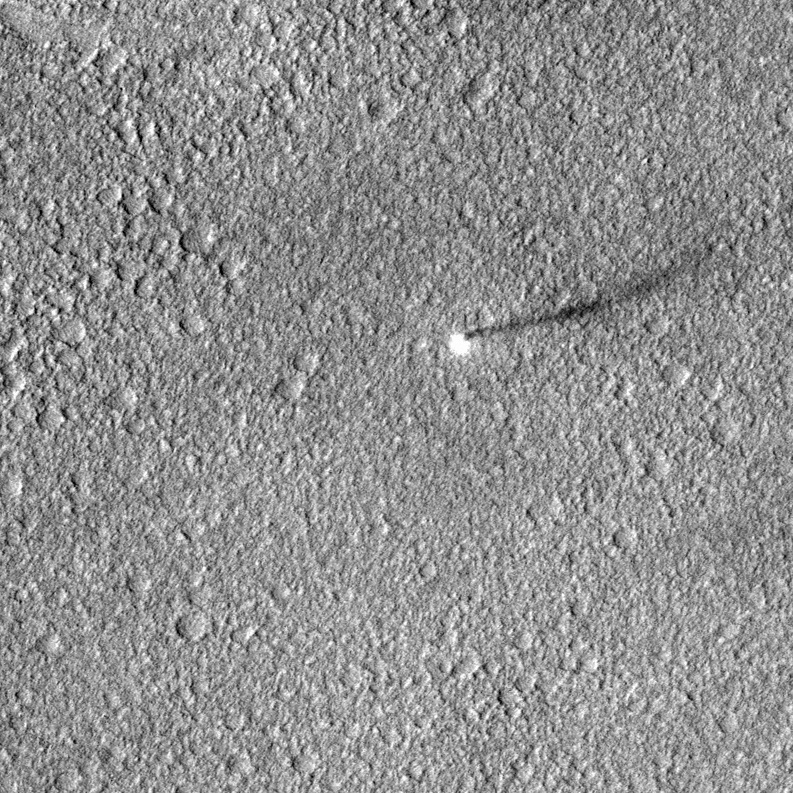dust_devil: (446, 245, 716, 359)
